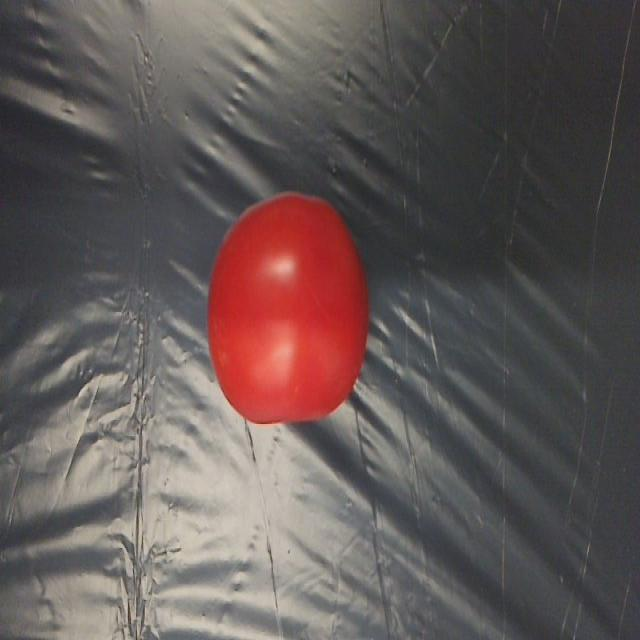kirmizi: (197, 187, 380, 440)
